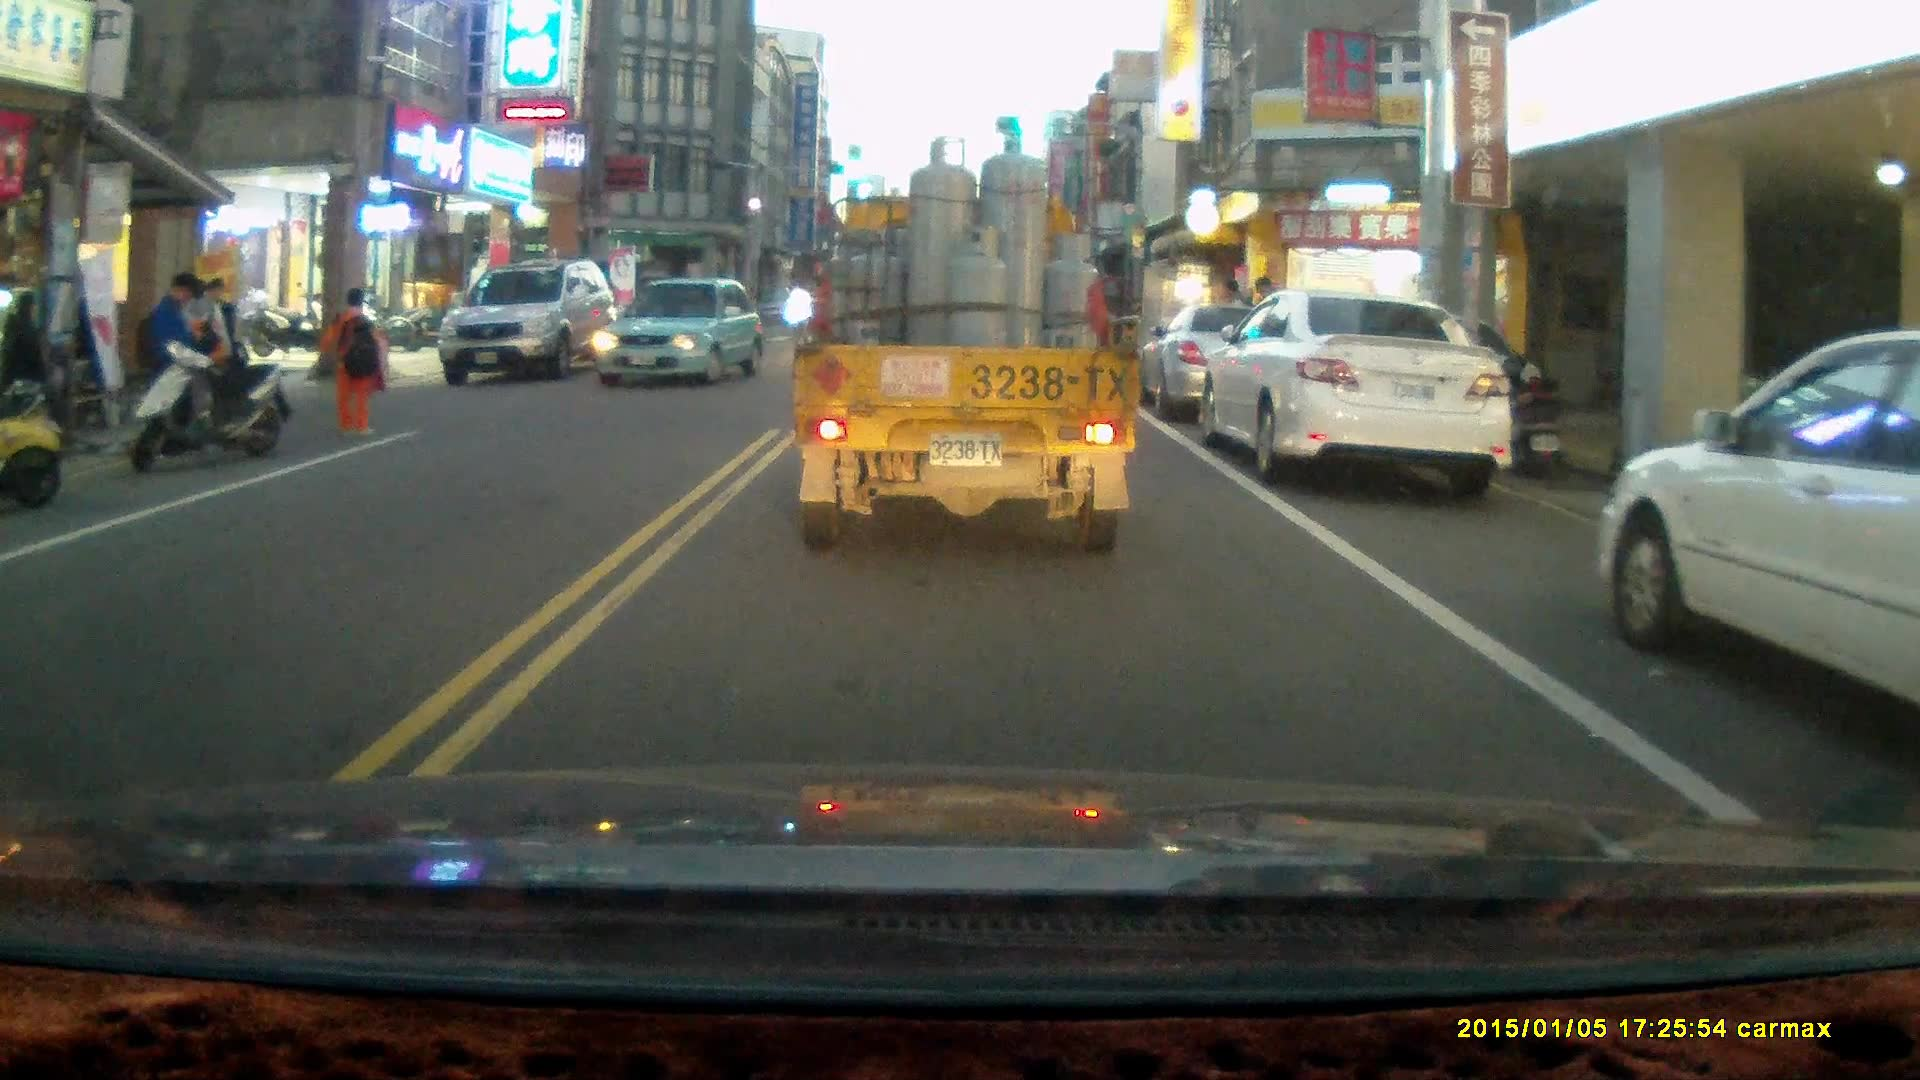pedestrian: (131, 271, 209, 452), (318, 284, 386, 435), (0, 288, 47, 448)
vehicle: (790, 128, 1147, 558), (1608, 327, 1920, 724), (1202, 286, 1514, 494), (1141, 299, 1369, 428), (443, 260, 619, 391), (590, 278, 772, 392)
